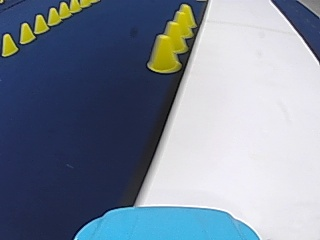cone: (145, 31, 181, 73), (162, 21, 187, 54), (172, 4, 196, 37), (1, 33, 18, 56), (19, 22, 35, 43), (33, 13, 48, 33), (46, 7, 61, 25), (58, 1, 70, 18), (69, 0, 81, 12)
